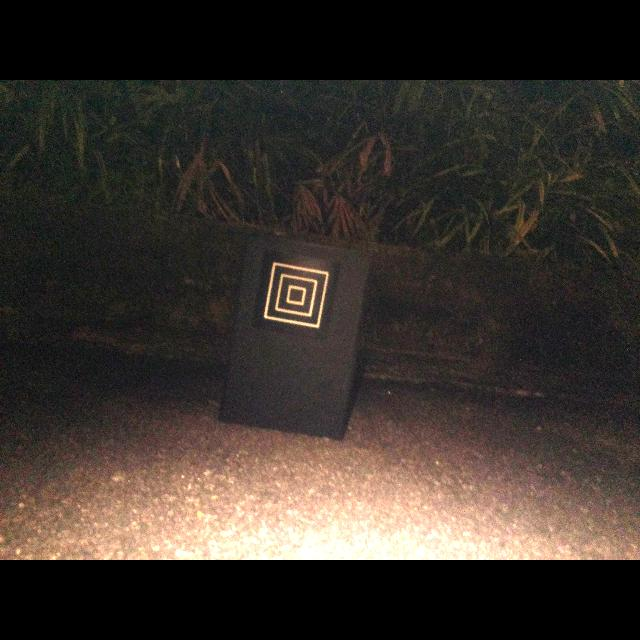BULLSEYE: (264, 262, 329, 328)
